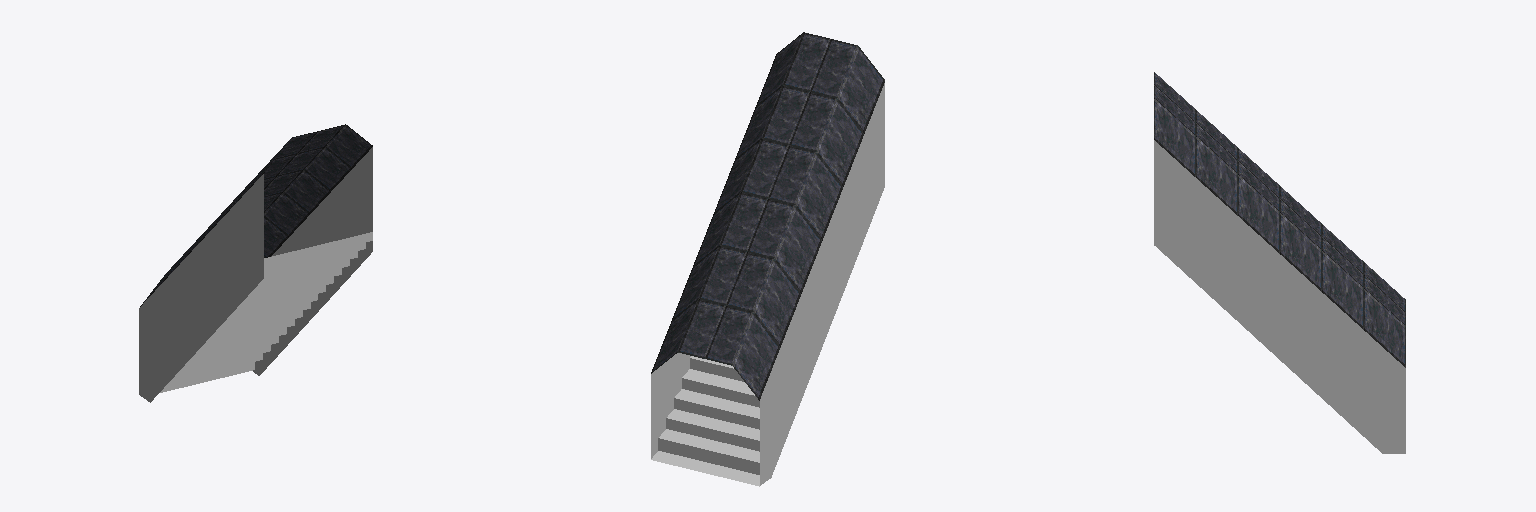
3 views of the same model, side by side, from view 1: azimuth 30°, elevation 25°; view 2: azimuth 150°, elevation 25°; view 3: azimuth 270°, elevation 25° (orthographic).
Parts seen in each view (by area): view 1: model61018-node_model61018; view 2: model61018-node_model61018; view 3: model61018-node_model61018.
Part boxes in pixels (x1,y1,x2,y2): model61018-node_model61018: (139, 124, 372, 402); model61018-node_model61018: (651, 32, 884, 486); model61018-node_model61018: (1154, 72, 1405, 453).
Size of the model in its own units: 3.2 by 9.6 by 6.4.
Materials: 3 (1 with a texture image).